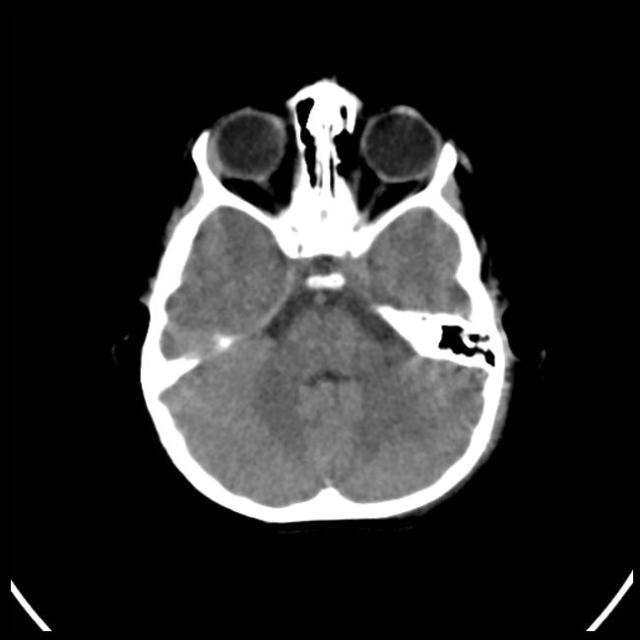lesion: (133, 73, 522, 527)
